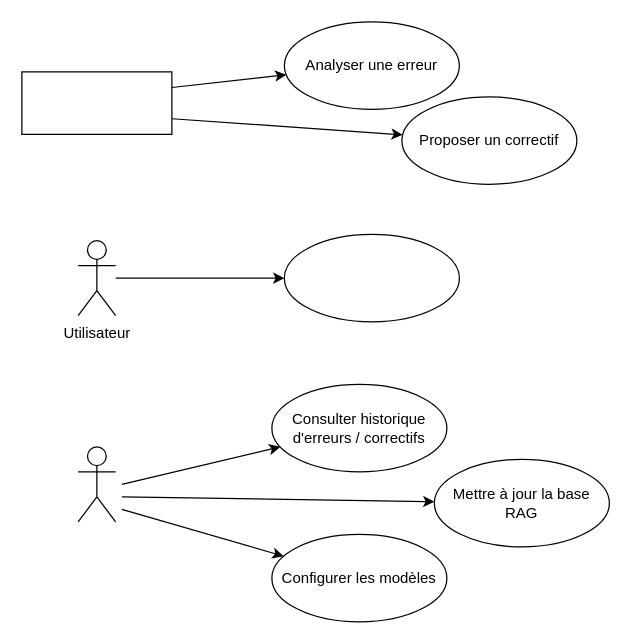
This 631x644 diagram has some shape labels left out. Each missing label, with the centre of its shape:
Administrateur du système: the point at 96,484
Soumettre une erreur: the point at 371,277
«actor» Système: the point at 96,102
